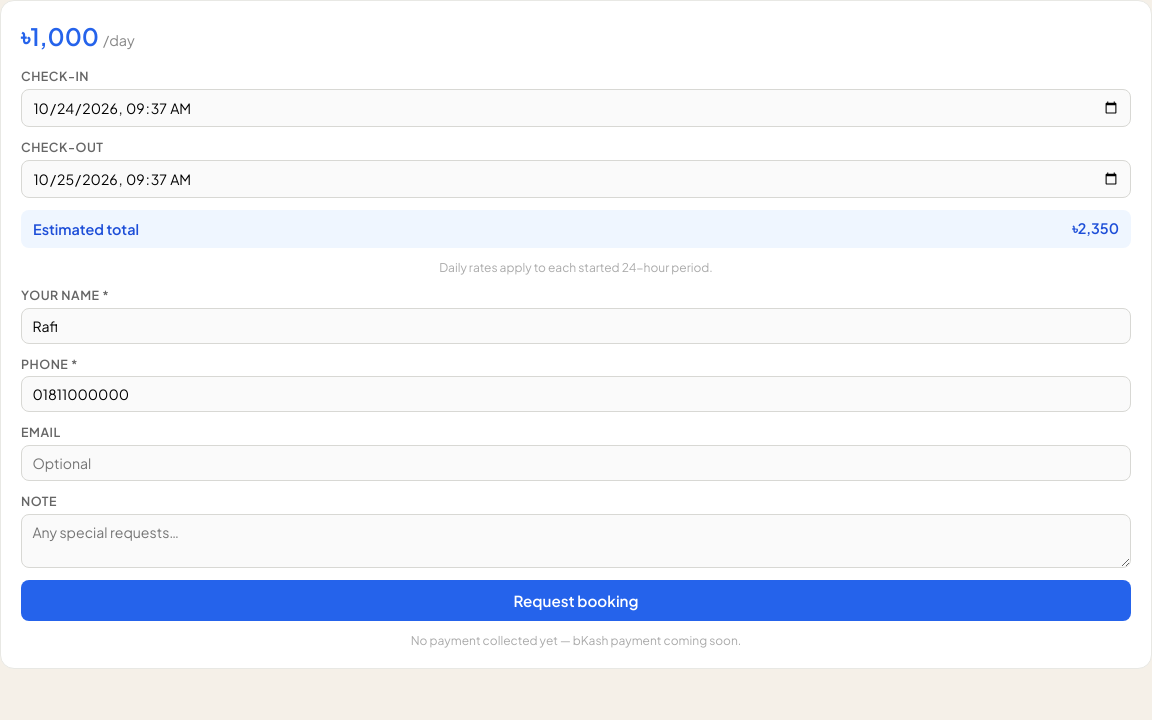
Test: BookingPanel authoritative quotes and booking status › uses the server price and displays a pending request without claiming confirmation
Expected: the text "৳2,350" is shown, left=1072, top=219, right=1119, bottom=238
Click the button "Request booking".
click(576, 601)  # box left=21, top=580, right=1131, bottom=621
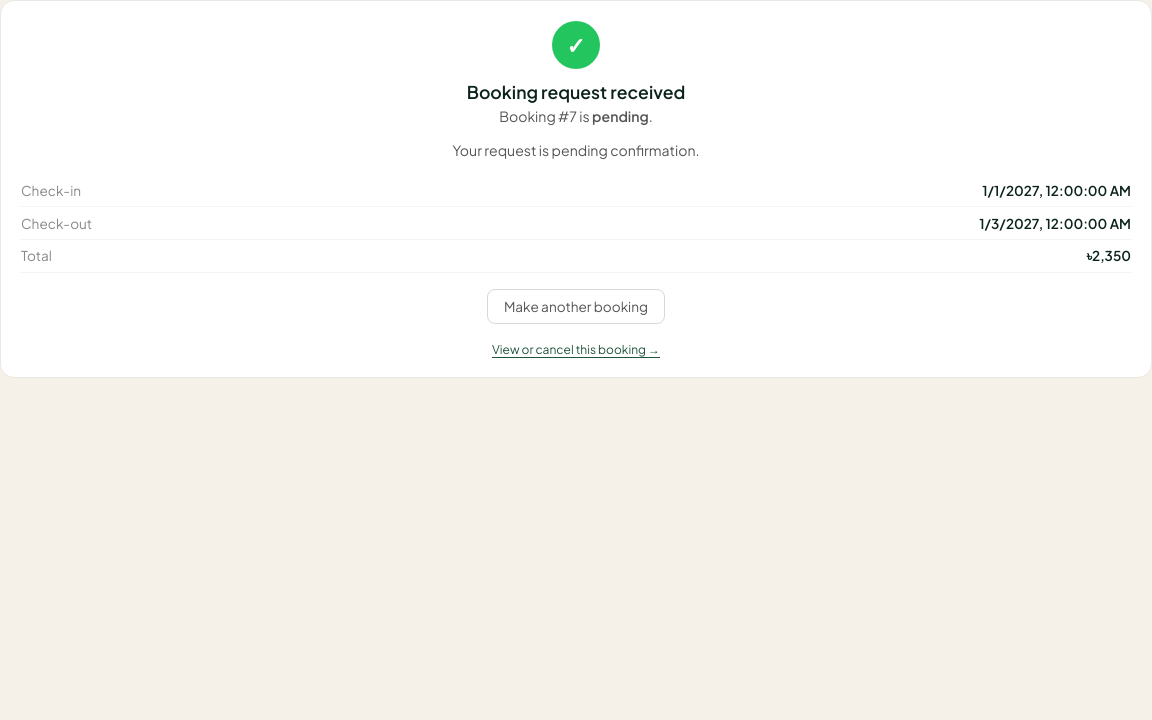
Expected: the heading "Booking request received" is shown, left=467, top=81, right=685, bottom=103
Expected: the text "Your request is pending confirmation." is shown, left=452, top=141, right=700, bottom=159
